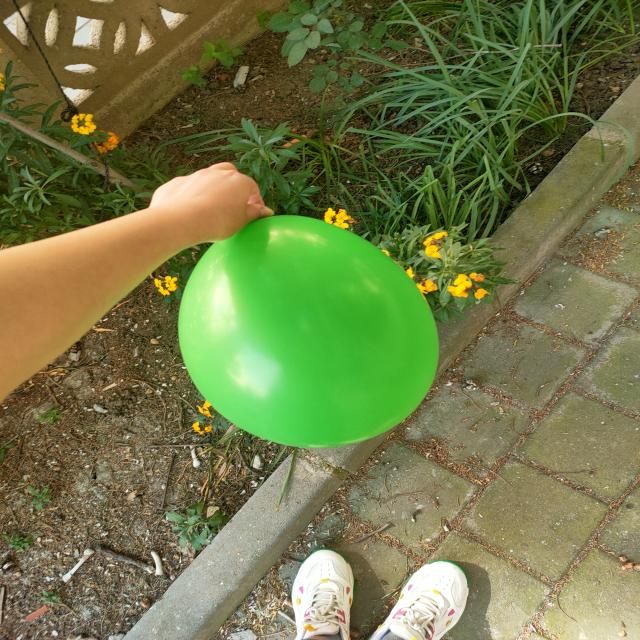green: (180, 218, 437, 445)
